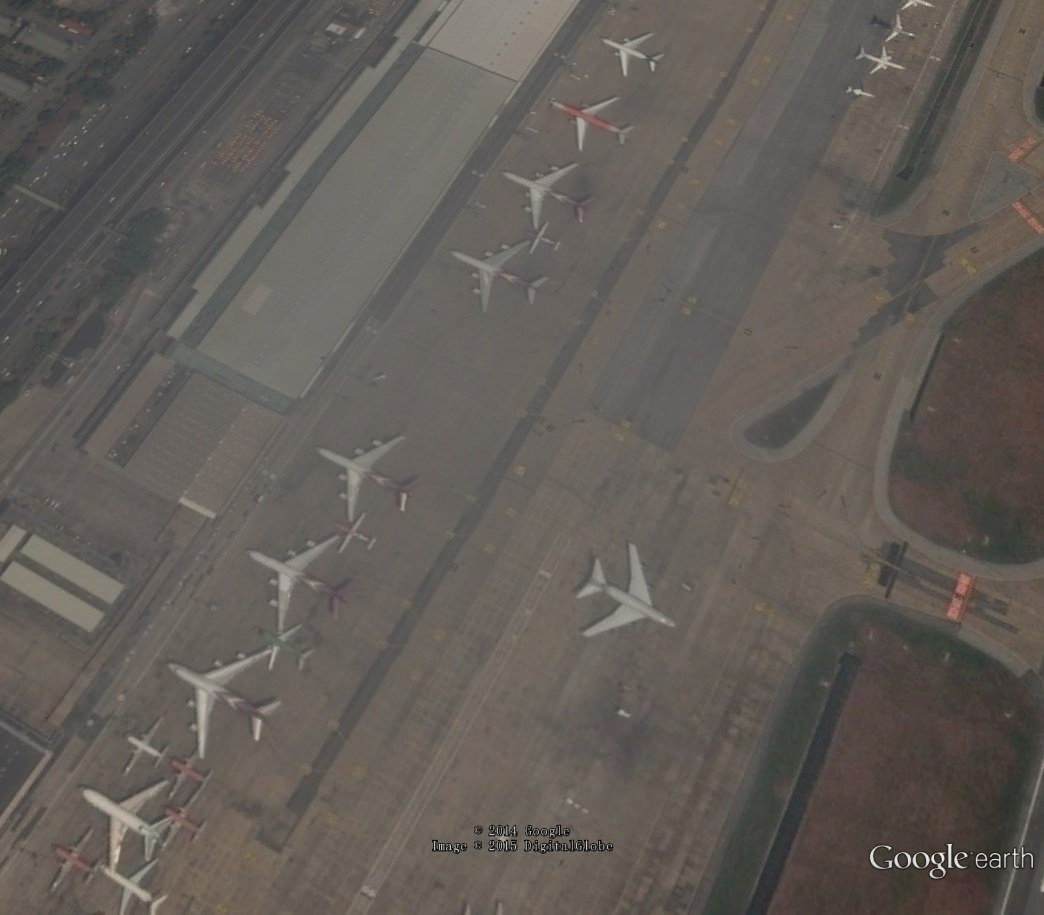aircraft: (165, 645, 288, 765), (241, 531, 358, 640), (571, 540, 682, 645), (312, 432, 424, 526), (72, 775, 178, 874), (444, 238, 553, 316), (498, 159, 600, 234), (546, 93, 640, 153), (42, 823, 114, 895), (94, 855, 174, 915), (153, 789, 216, 855), (595, 27, 669, 82), (118, 709, 175, 778), (255, 621, 321, 679), (165, 745, 219, 804), (327, 510, 379, 559), (850, 40, 912, 78), (868, 10, 922, 46), (519, 220, 565, 259)
